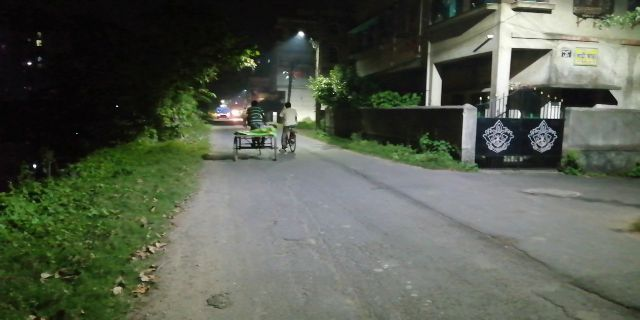Cycle: (283, 101, 305, 157)
Rickshaw: (232, 100, 280, 166)
